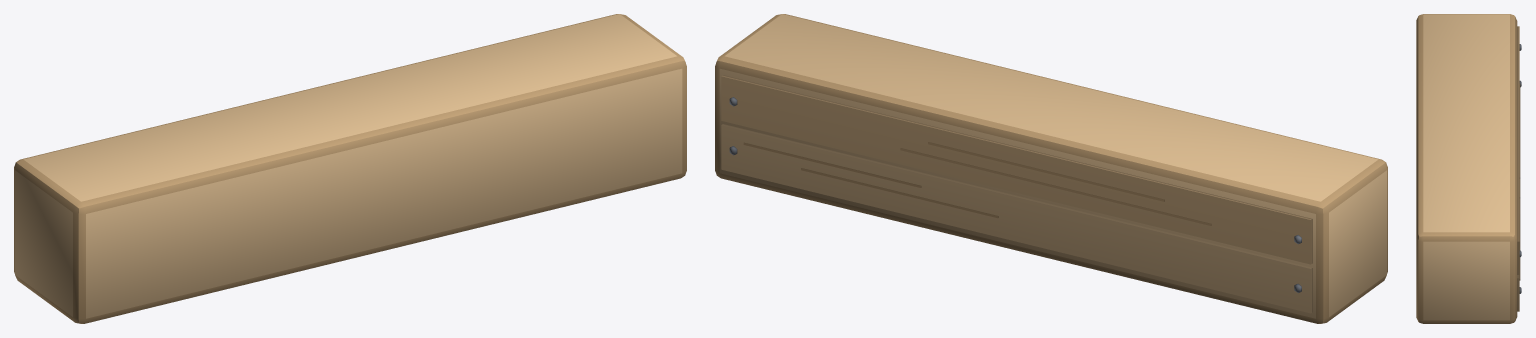
File: PlankSmallWood.fbx
3 views of the same model, side by side, from view 1: azimuth 30°, elevation 25°; view 2: azimuth 150°, elevation 25°; view 3: azimuth 270°, elevation 25° (orthographic). The views are drawn at different scales.
Parts seen in each view (by area): view 1: PlankSmallWood; view 2: PlankSmallWood; view 3: PlankSmallWood.
Boxes of the visible parts, x1,y1,x2,y2 form: PlankSmallWood: [14, 14, 686, 323]; PlankSmallWood: [715, 14, 1387, 323]; PlankSmallWood: [1416, 14, 1521, 323].
Size of the model in its own units: 7.35 by 1.4 by 1.46.
